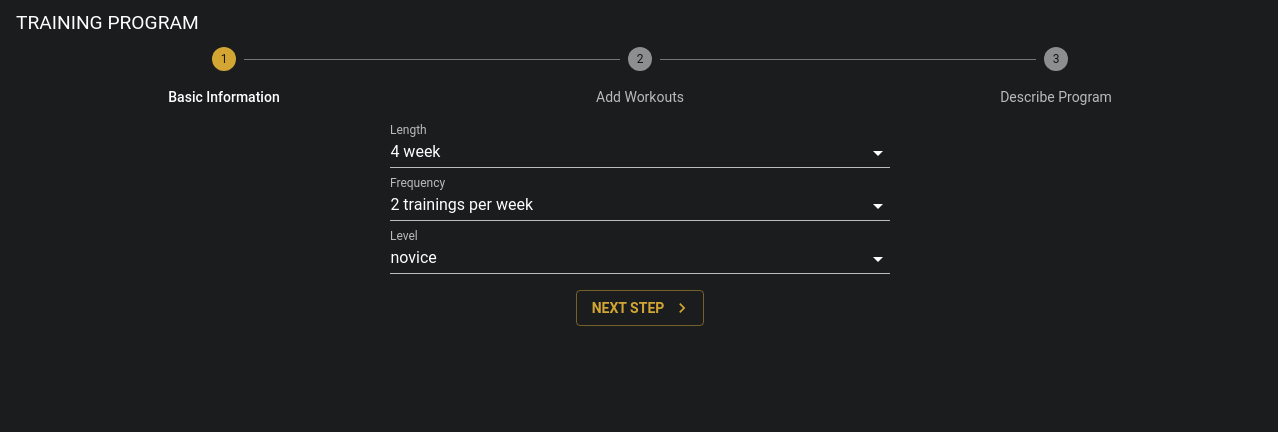
NewProgram Page › create program › second step shoud generate as many training weeks as choosen length in first step › iteration #0
Select "4 week" in the dropdown labelled "Length": (640, 153) [390,139,890,168]
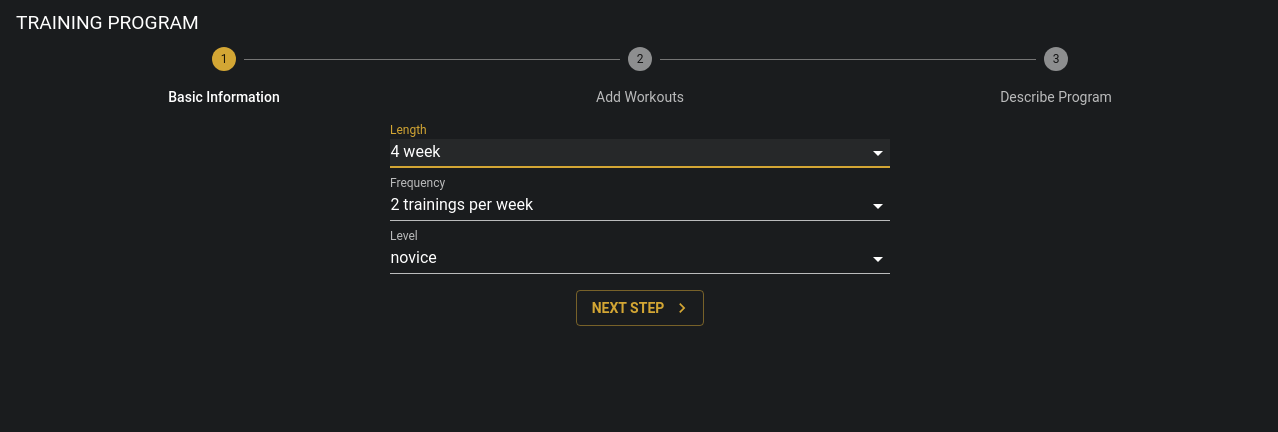
Click the button "next step": (640, 308) [576,290,704,326]
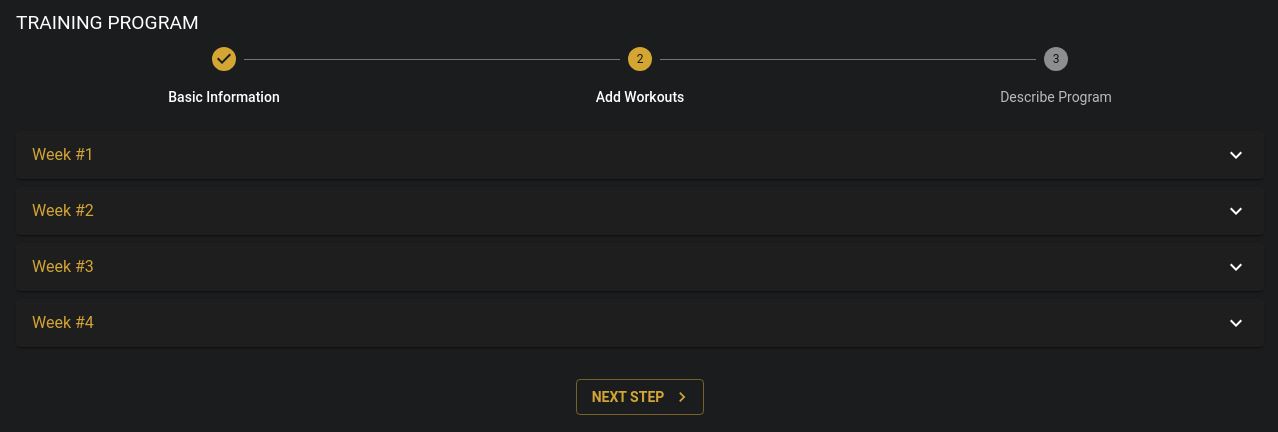
Check: the number of buttons "Week #1" is 4, box [32,143,1248,167]; [32,199,1248,223]; [32,255,1248,279]; [32,311,1248,335]
